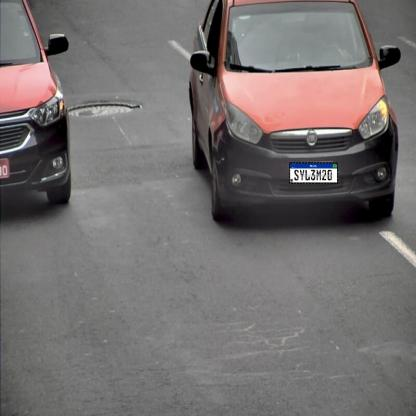PlacaM: (289, 162, 338, 184)
